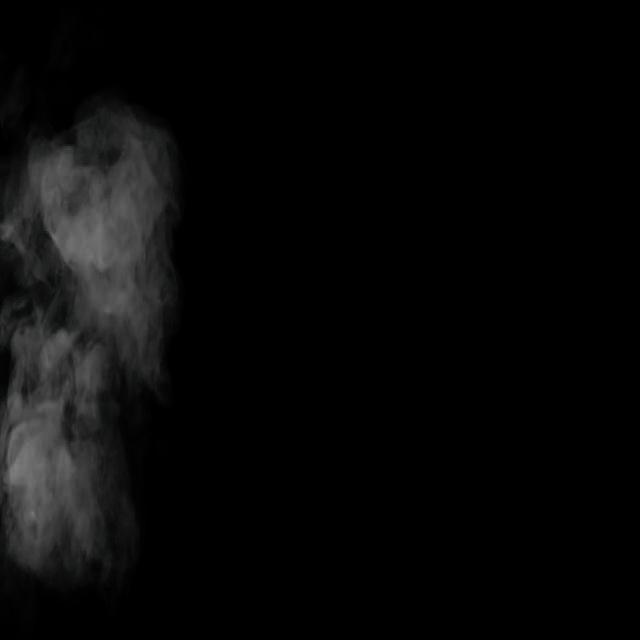smoke: (5, 189, 180, 434), (2, 404, 157, 638), (0, 8, 144, 215), (126, 90, 221, 192), (132, 0, 245, 78)
